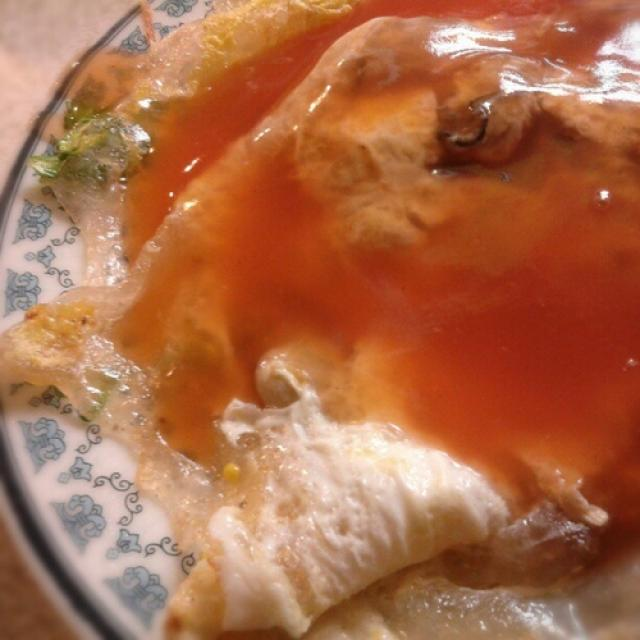熟制海鲜: (19, 15, 616, 631)
